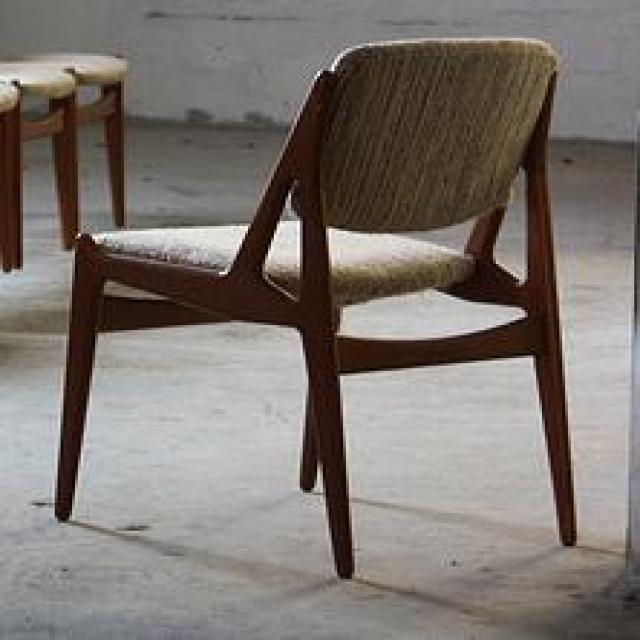chair: (51, 33, 579, 581)
